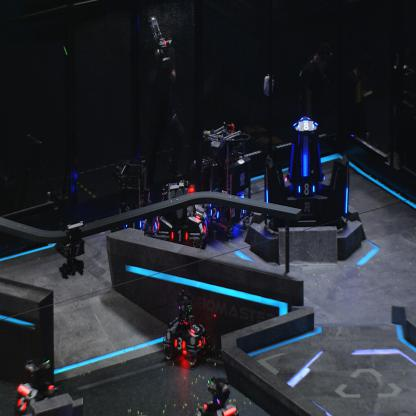car: (202, 124, 254, 234), (147, 175, 207, 250), (160, 286, 209, 366), (110, 160, 152, 238), (16, 360, 61, 416), (198, 375, 240, 416)
